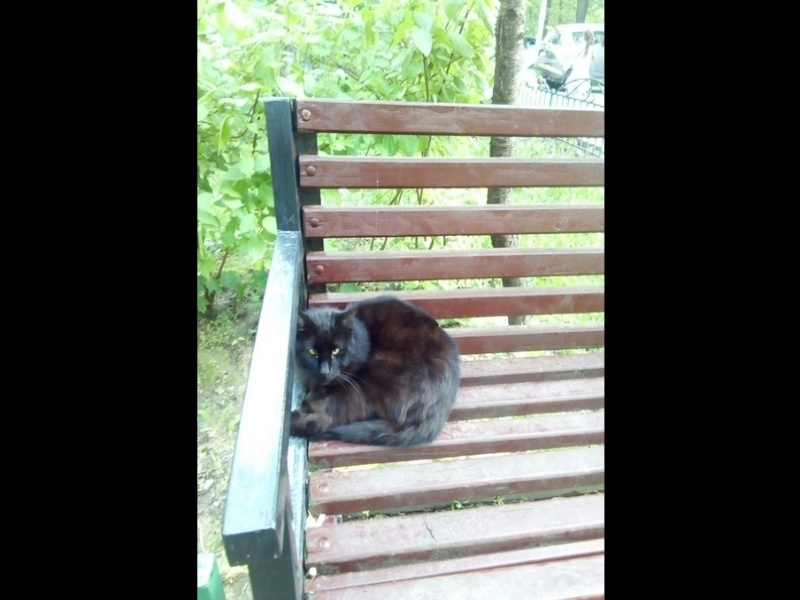cat: (287, 293, 460, 449)
